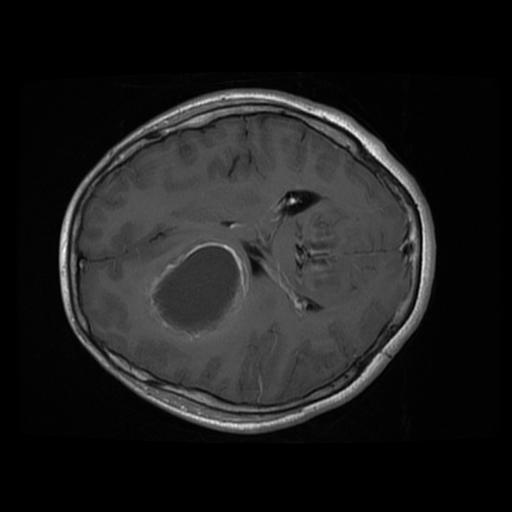glioma: (144, 239, 246, 343)
